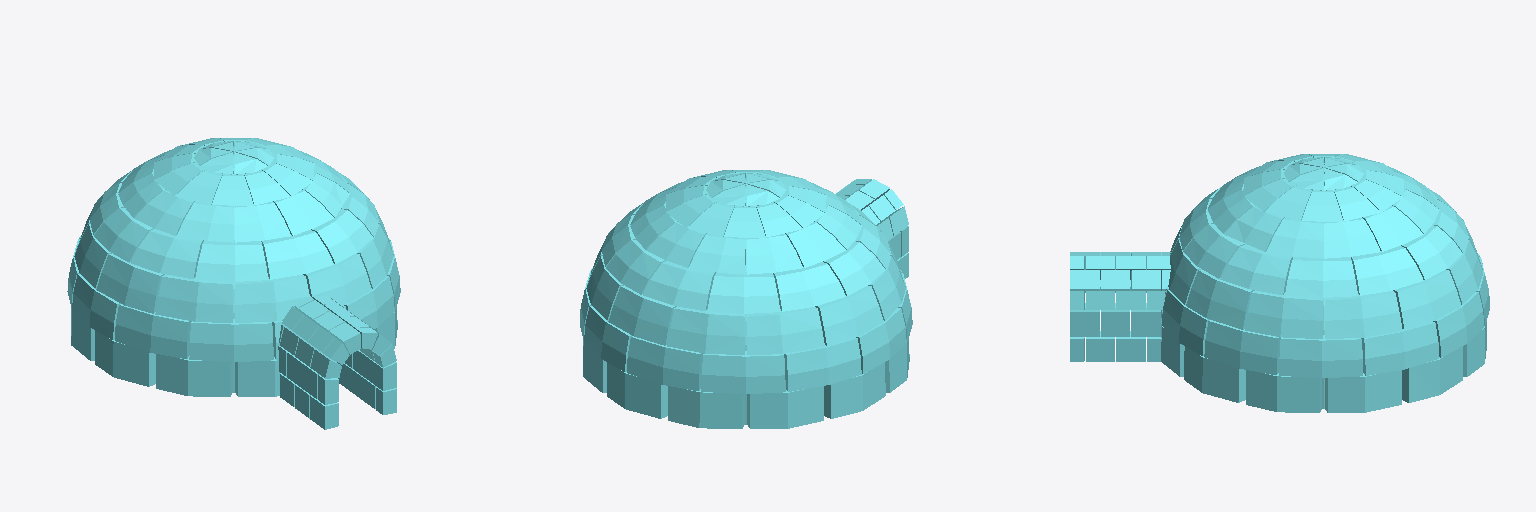
Rendered from igloo.obj.
3 views of the same model, side by side, from view 1: azimuth 30°, elevation 25°; view 2: azimuth 150°, elevation 25°; view 3: azimuth 270°, elevation 25° (orthographic).
Bounding box in the file's own units: 4.04 × 2.36 × 5.1.